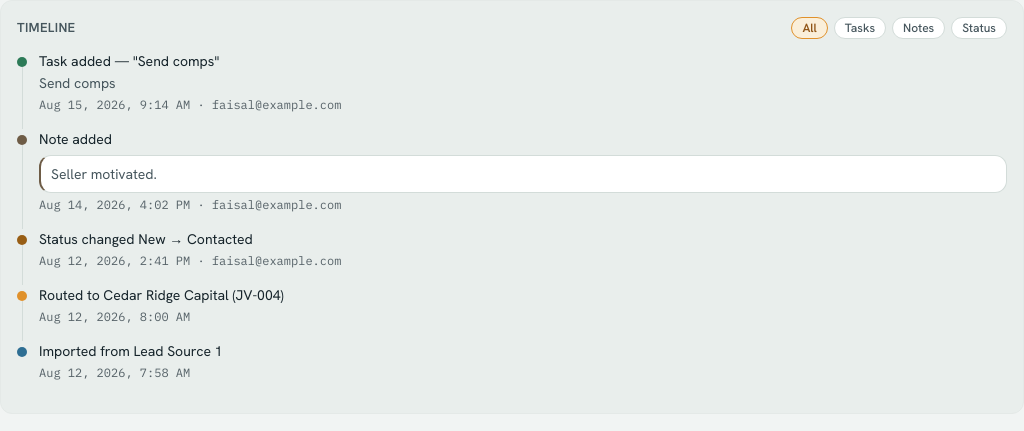
Test: DSN-03: Timeline rendering › the Tasks chip narrows to task_created/task_completed and drops system + note + status entries
Click the button "Tasks" at (860, 28), box [834,17,886,39]
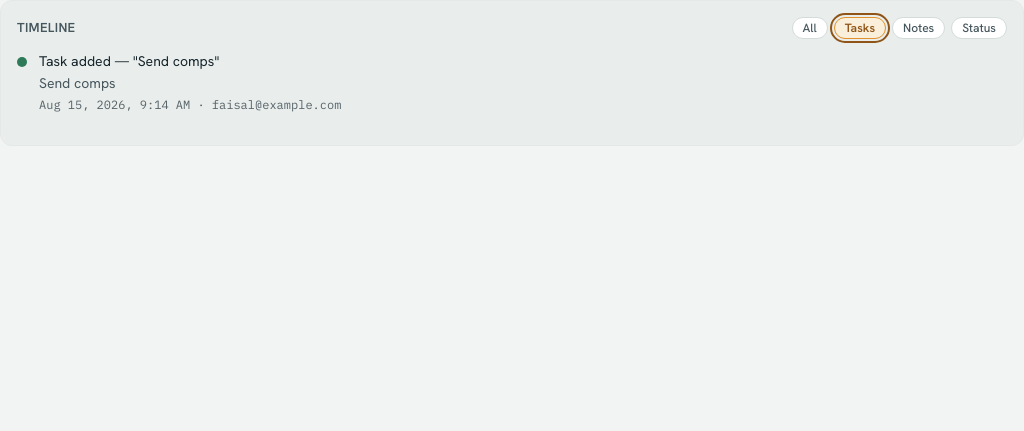
Expected: the text "Note added" is gone
Expected: the text "Status changed" is gone
Expected: the text "Routed to Cedar Ridge" is gone
